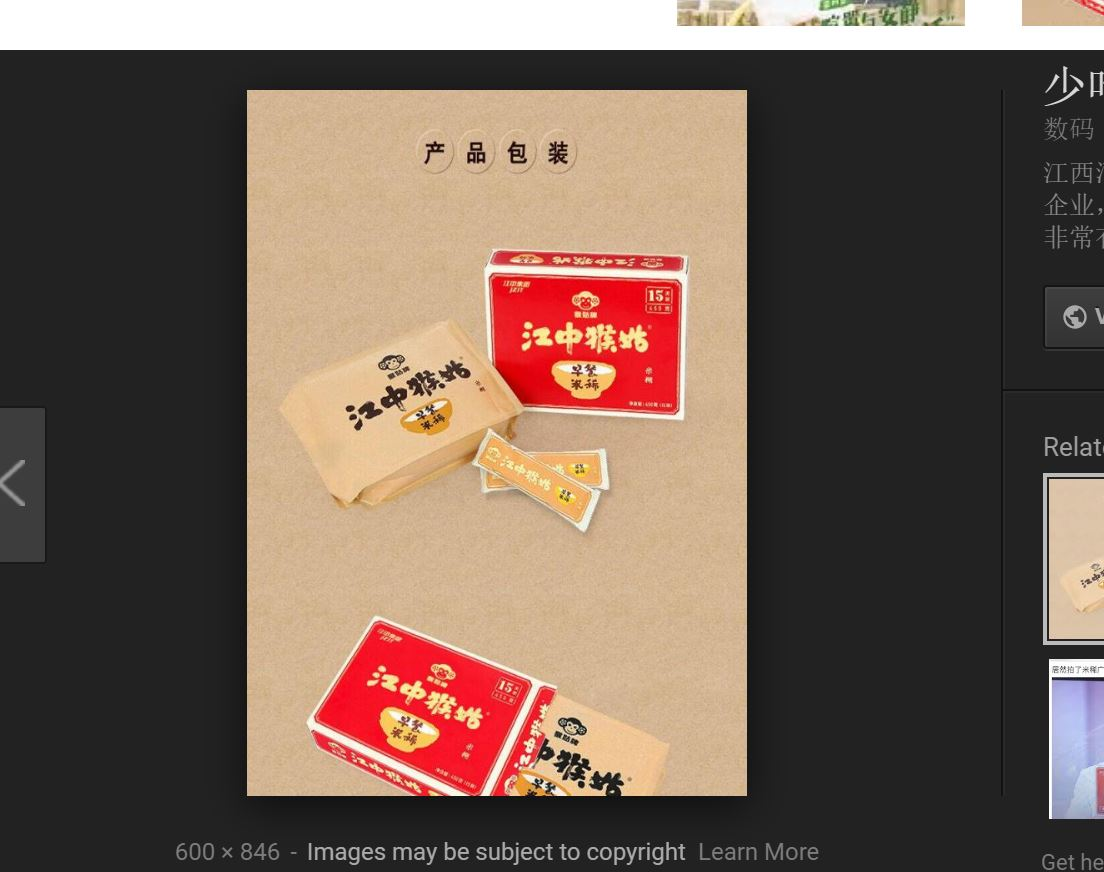box: (311, 615, 547, 794), (484, 244, 690, 423)
